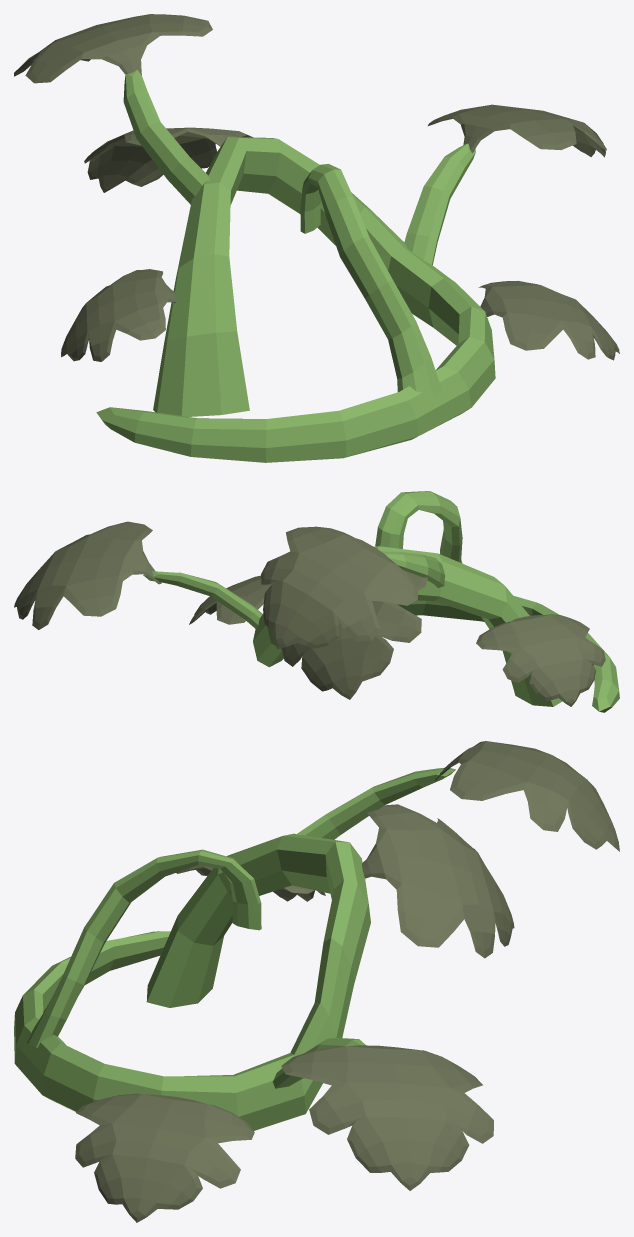
The model's file is Pumpkin_Harvested.glb.
3 views of the same model, one above another, from view 1: azimuth 30°, elevation 25°; view 2: azimuth 150°, elevation 25°; view 3: azimuth 270°, elevation 25° (orthographic). The views are drawn at different scales.
Parts seen in each view (by area): view 1: Pumpkin_Harvested; view 2: Pumpkin_Harvested; view 3: Pumpkin_Harvested.
Boxes of the visible parts, x1=… form: Pumpkin_Harvested: x1=14, y1=14, x2=619, y2=462; Pumpkin_Harvested: x1=14, y1=491, x2=619, y2=712; Pumpkin_Harvested: x1=14, y1=741, x2=619, y2=1222.
Bounding box in the file's own units: 1.29 × 0.59 × 1.08.
